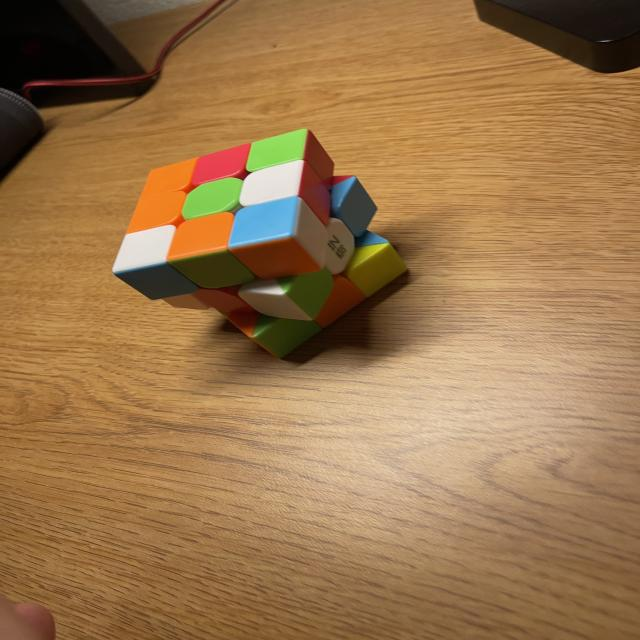Rubiks Cube: (110, 128, 407, 358)
